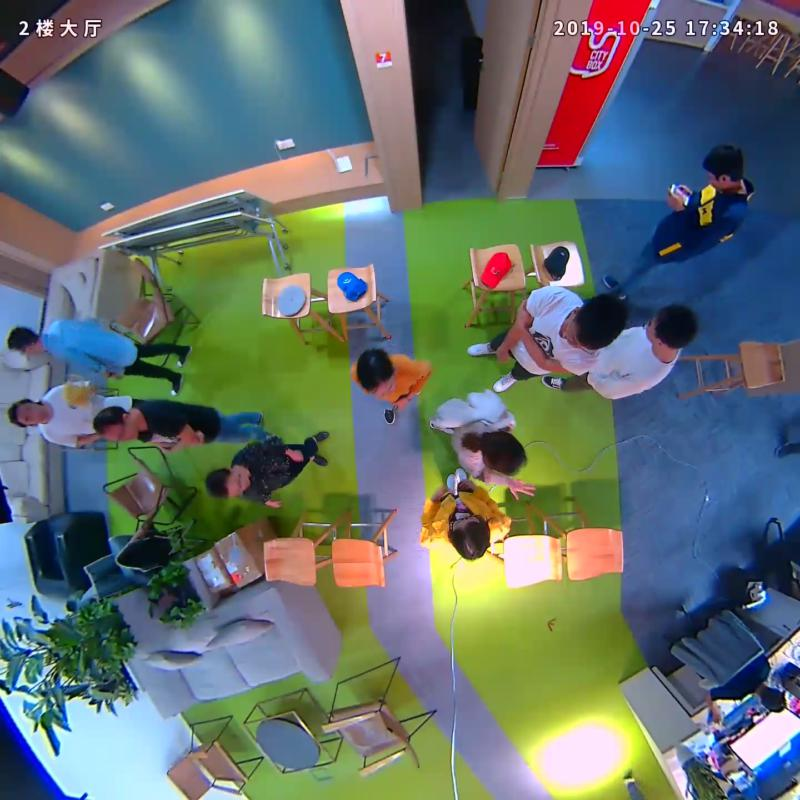head: (562, 293, 626, 350), (645, 303, 697, 350), (480, 430, 526, 478), (701, 144, 745, 190), (449, 515, 489, 562), (357, 350, 395, 397), (93, 404, 139, 441), (205, 467, 250, 499), (7, 399, 48, 427), (5, 325, 40, 357)
